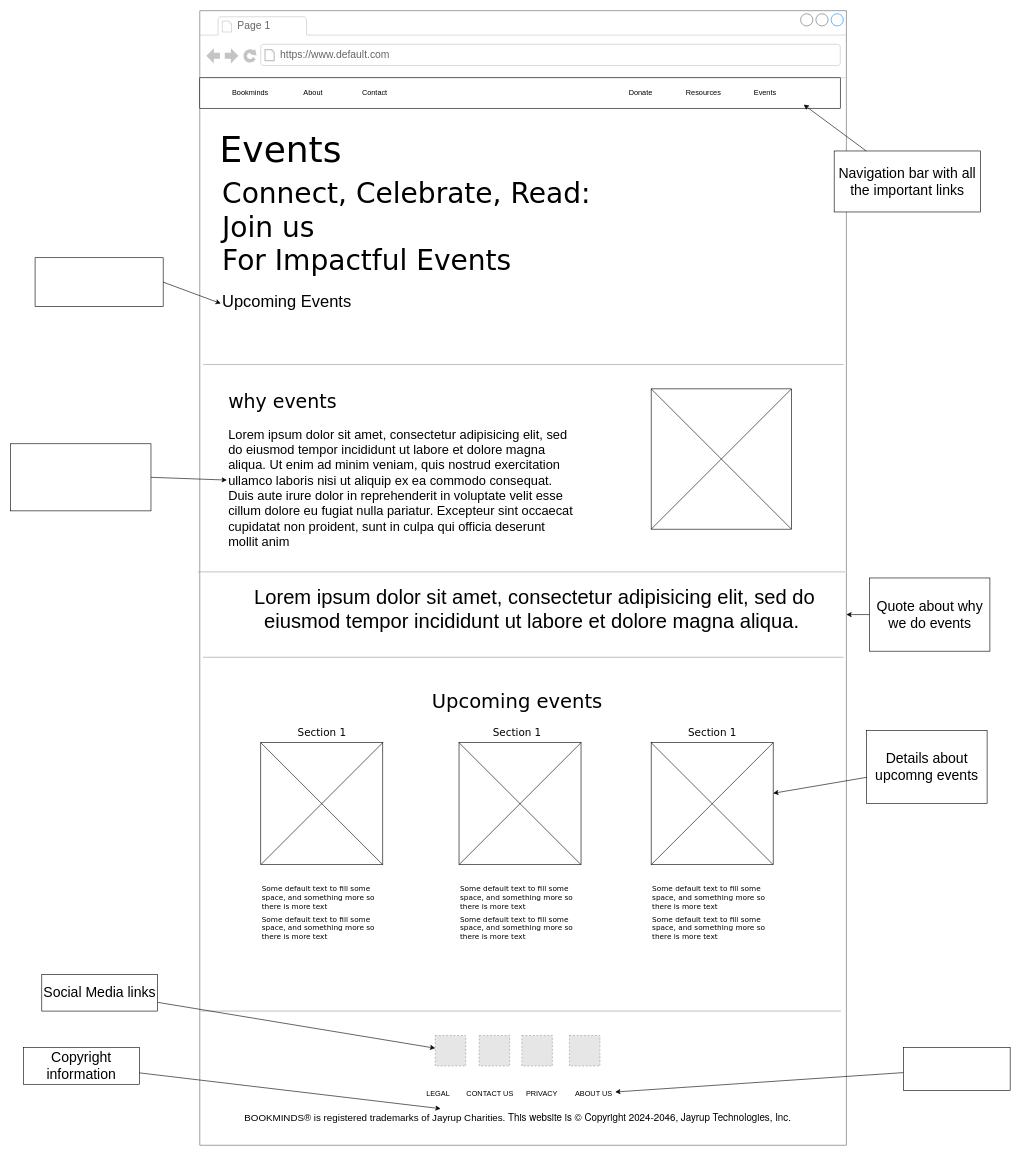
This 1021x1156 diagram has some shape labels left out. Grey dashed boxes stand in for pictures. The centre of each missing label's shape, as x and y in pixels:
"Additional links" belongs at point 956,1068.
"Short paragraph about why we do events" belongs at point 80,477.
"Simple hero page with a call to action" belongs at point 98,282.
